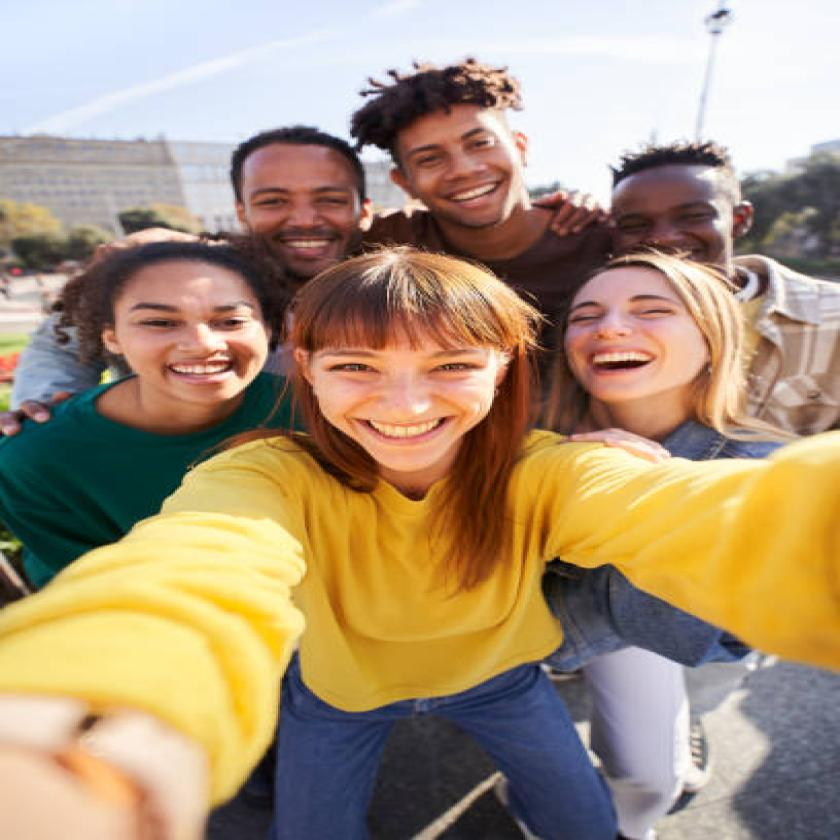Sin_casco: (295, 248, 551, 484), (51, 216, 278, 429), (563, 241, 792, 420), (354, 51, 558, 232), (230, 108, 370, 266), (610, 144, 766, 269)
